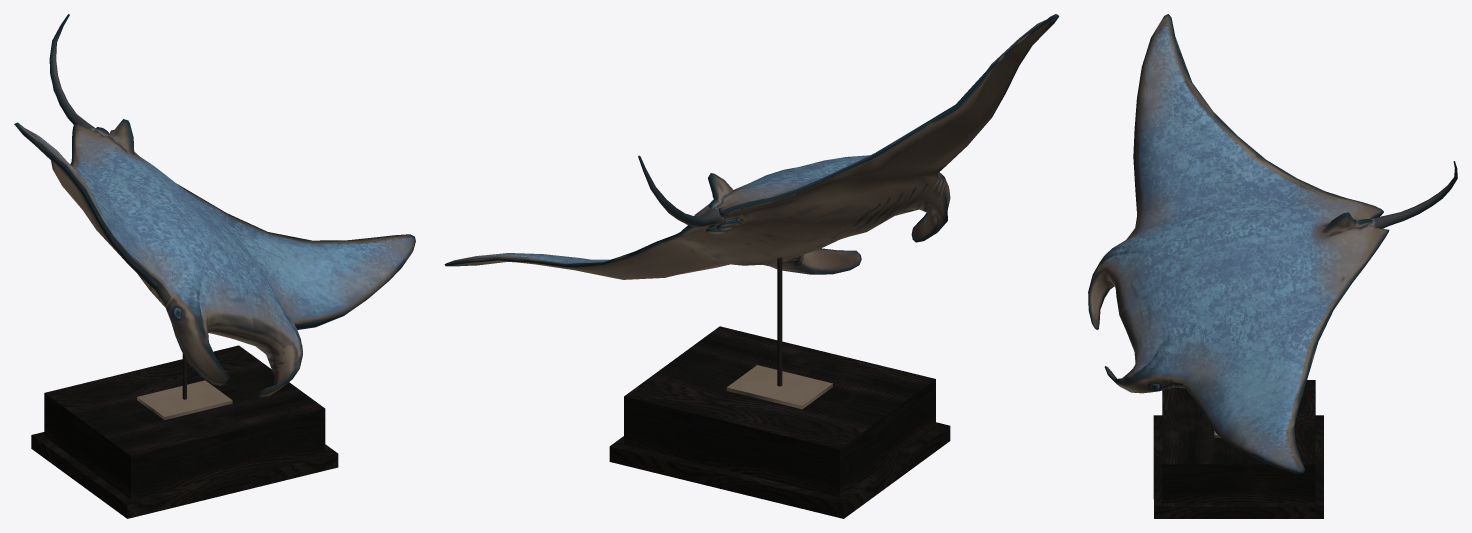
File: statue.glb
The picture shows the model from 3 angles, left to right: view 1: azimuth 30°, elevation 25°; view 2: azimuth 150°, elevation 25°; view 3: azimuth 270°, elevation 25°; orthographic projection. The views are drawn at different scales.
Visible parts, largest first — view 1: bronze_ray_statue_bronze_ray_statue_0; view 2: bronze_ray_statue_bronze_ray_statue_0; view 3: bronze_ray_statue_bronze_ray_statue_0.
Boxes of the visible parts, x1,y1,x2,y2 form: bronze_ray_statue_bronze_ray_statue_0: [14, 14, 415, 518]; bronze_ray_statue_bronze_ray_statue_0: [444, 14, 1059, 518]; bronze_ray_statue_bronze_ray_statue_0: [1088, 14, 1457, 518].
Bounding box in the file's own units: 0.7075 × 0.5897 × 0.5355.
Materials: 1 (1 with a texture image).
